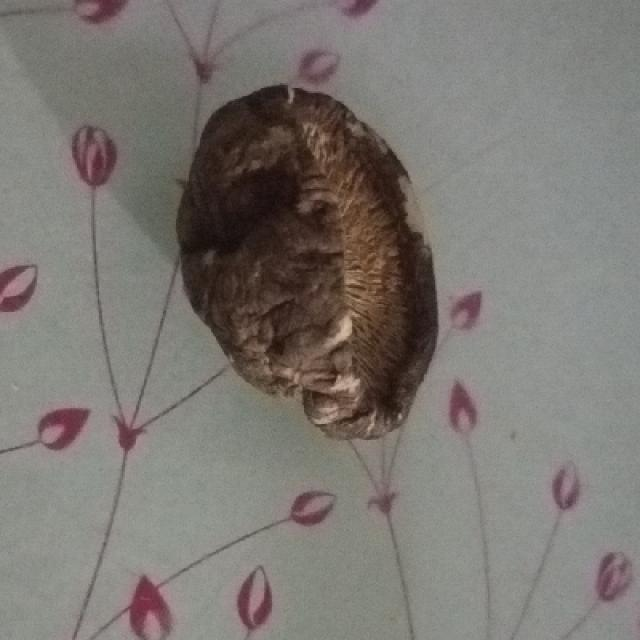Lentinus edodes: (176, 82, 434, 435)
